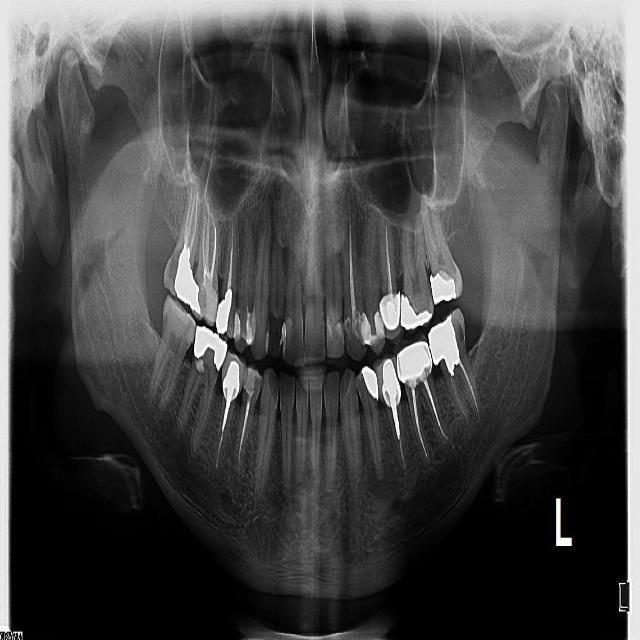dentin-curugu: (264, 299, 290, 361), (268, 370, 278, 402)
dolgu: (401, 289, 435, 328), (172, 248, 192, 300), (234, 307, 260, 343), (358, 363, 381, 399), (214, 289, 233, 331), (362, 315, 383, 345), (244, 367, 261, 392)
kanal-tedavisi: (406, 379, 450, 453), (439, 366, 485, 420), (198, 214, 226, 288), (339, 228, 361, 318), (388, 399, 411, 476), (378, 225, 402, 297), (178, 186, 202, 257), (212, 389, 232, 469), (218, 229, 240, 297), (235, 389, 251, 471)
kaplama: (426, 325, 462, 368), (396, 342, 429, 382), (195, 329, 225, 371), (426, 272, 459, 304), (223, 358, 243, 396), (381, 290, 400, 328), (382, 365, 401, 402)
